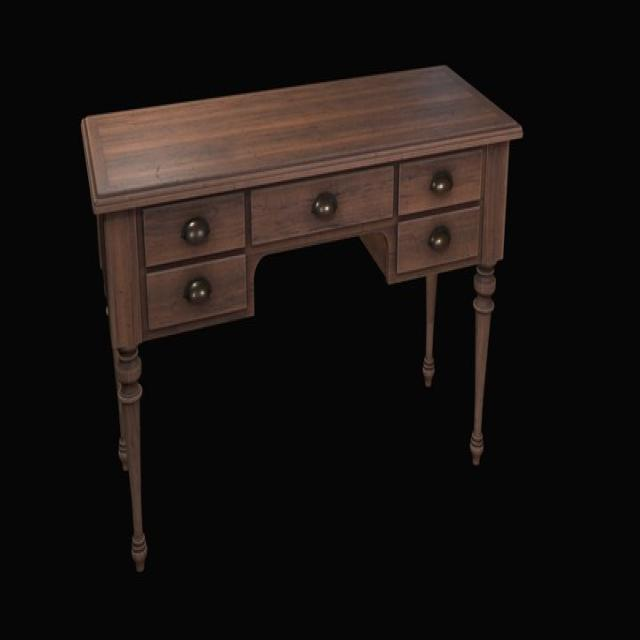table: (83, 60, 524, 576)
